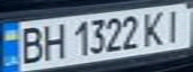1: (69, 17, 90, 56)
2: (121, 11, 145, 51), (103, 14, 127, 53)
3: (87, 16, 109, 55)
B: (12, 24, 48, 65)
H: (36, 20, 69, 61)
I: (160, 7, 190, 43)
K: (139, 8, 172, 47)
